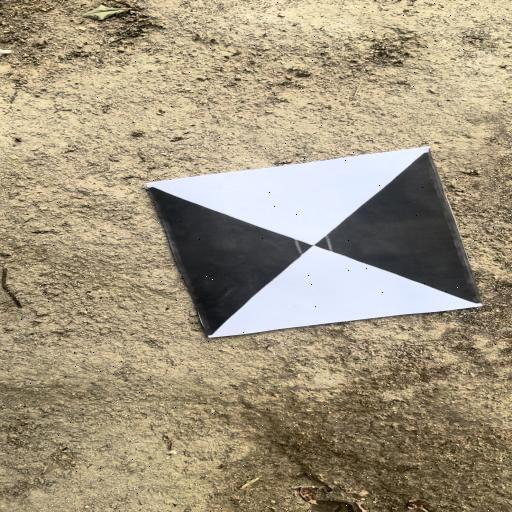target: (148, 147, 484, 333)
